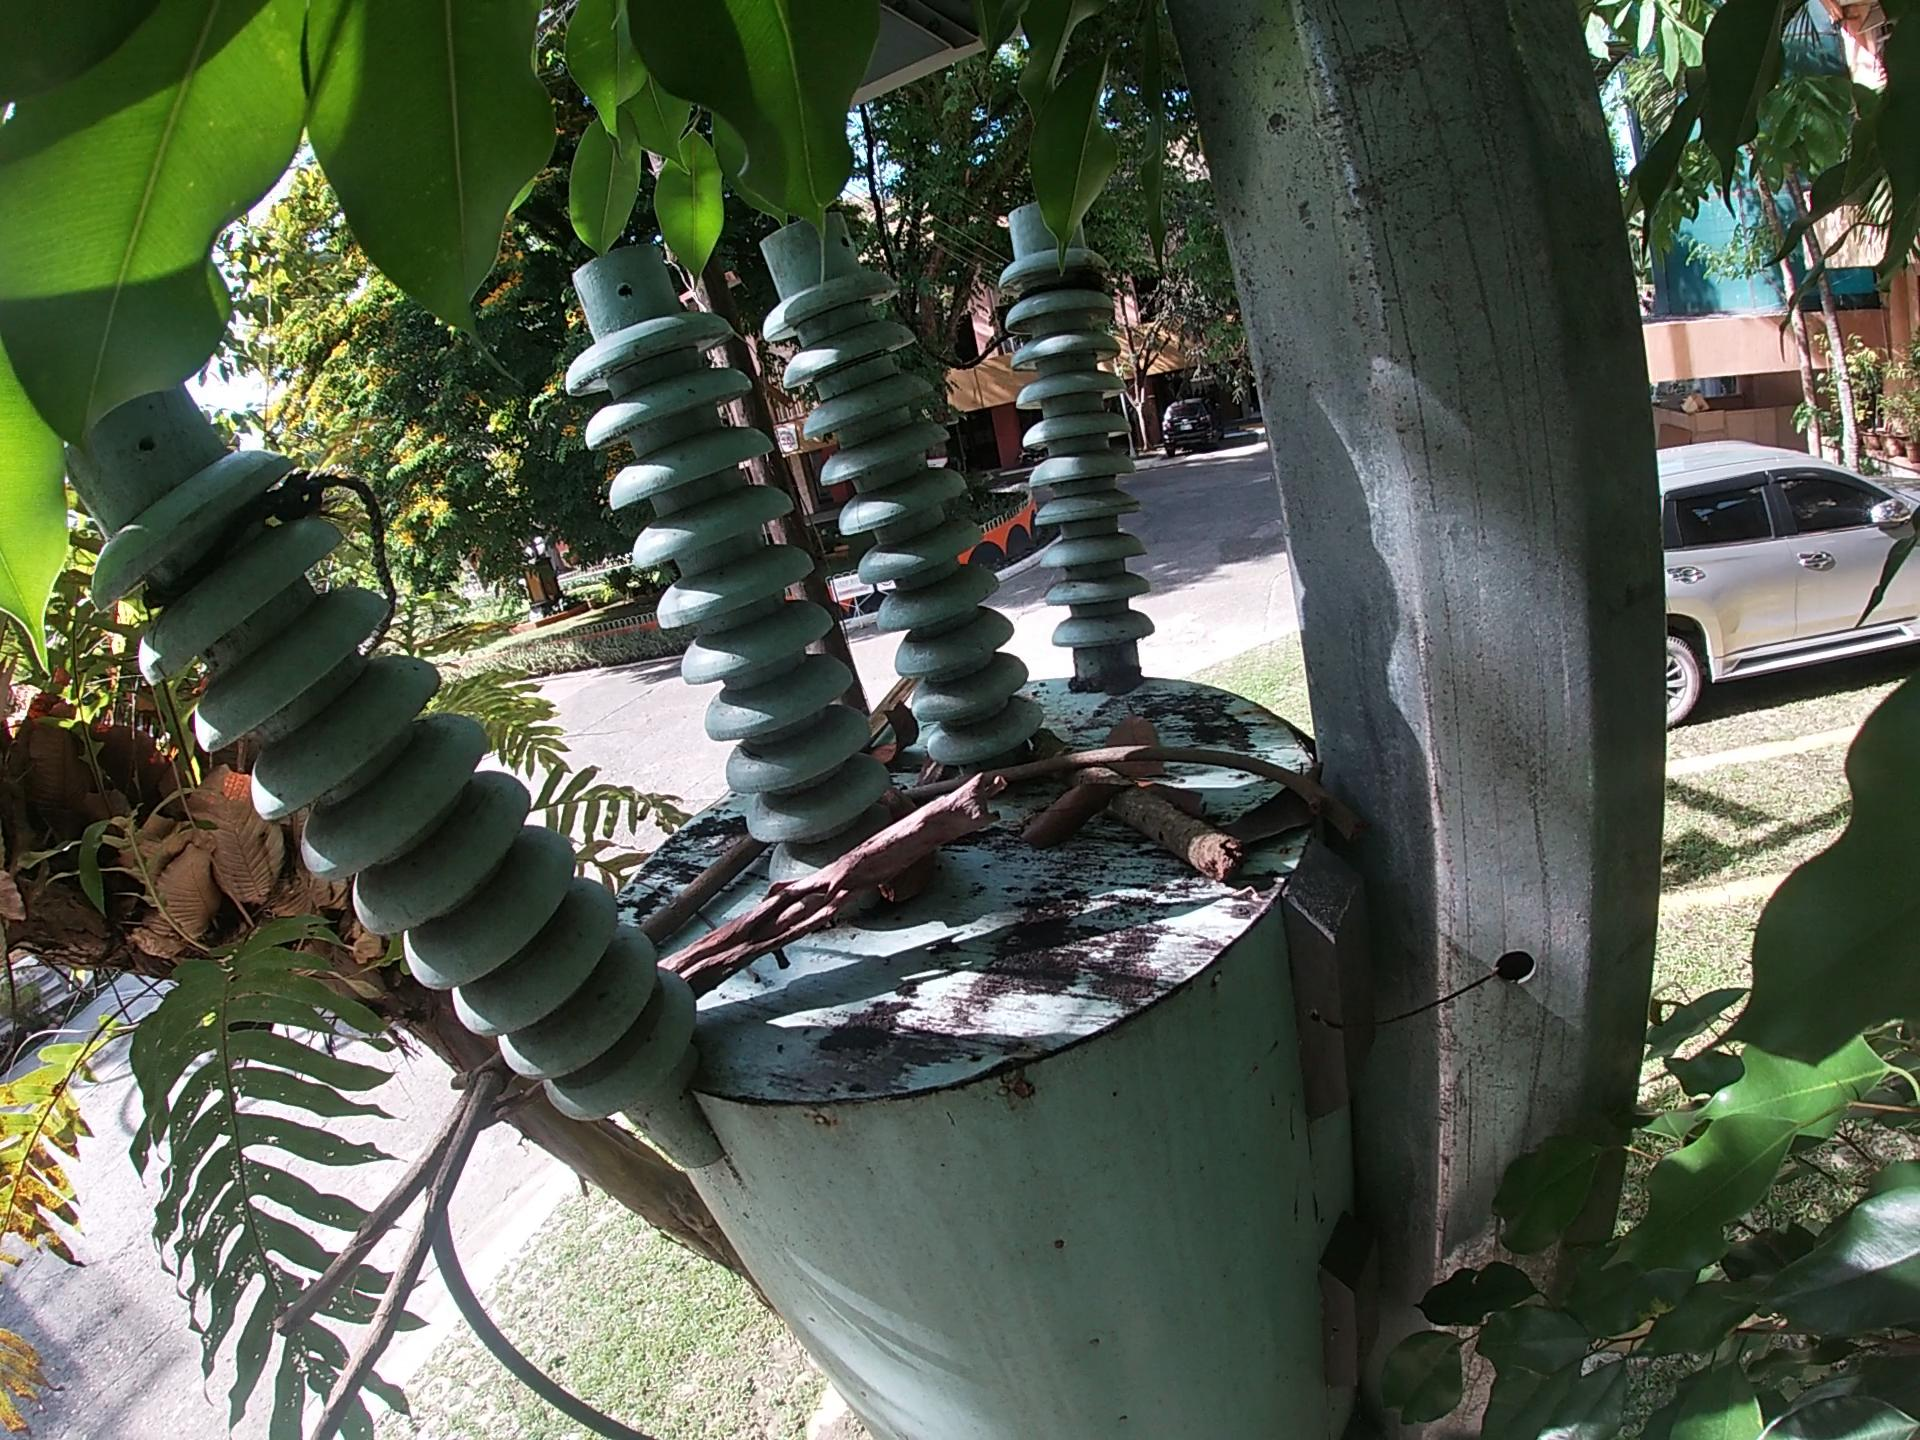leaf: (1017, 790, 1134, 856), (1101, 705, 1182, 779)
mahogany fruit: (884, 694, 927, 758)
tree branch: (215, 1072, 655, 1434), (655, 758, 1022, 985), (877, 743, 1359, 817), (1039, 738, 1249, 883), (639, 839, 766, 930), (856, 661, 922, 737)
